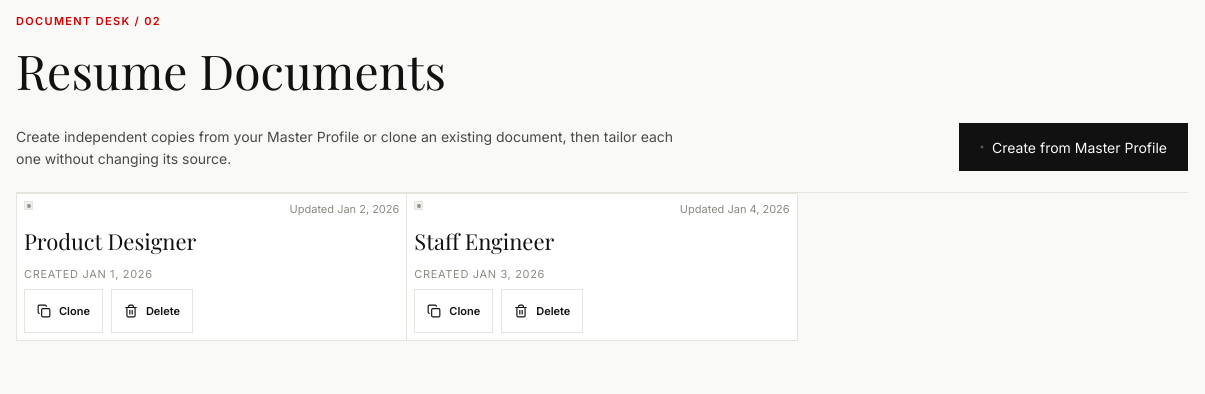
it: DocumentsList › shows an error and keeps the list when creation fails
Click the button "Create from Master Profile". click: (1074,147)
box: [959,123,1188,171]
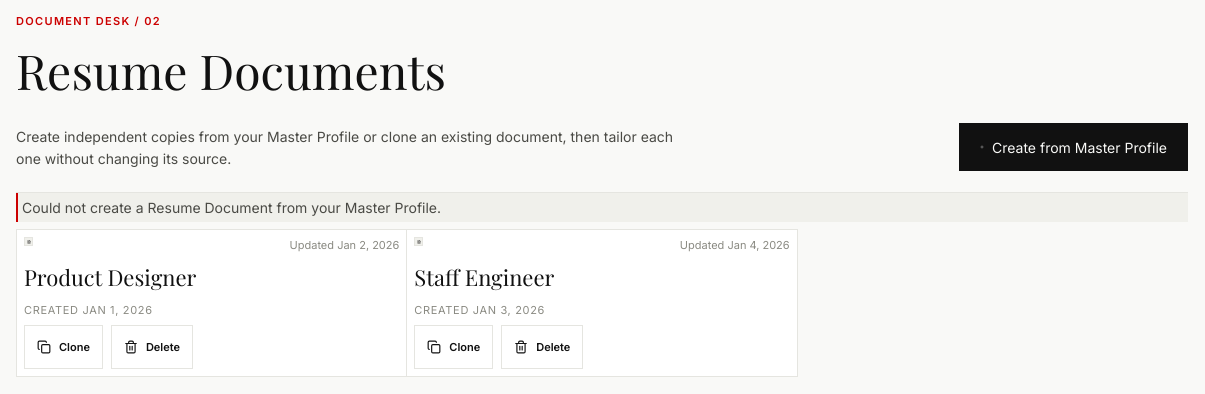
Expected: the link "Product Designer" is shown, [24,262,196,292]
Expected: the message "Could not create a Resume Document from your Master Profile." is shown, [16,193,1188,222]
